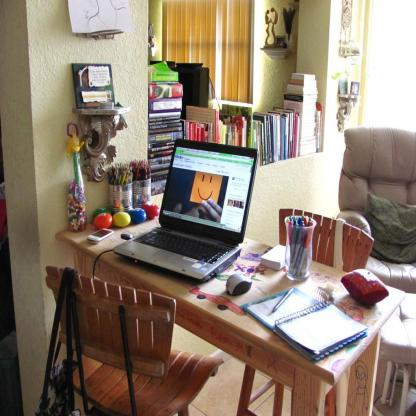board: (114, 140, 260, 284)
